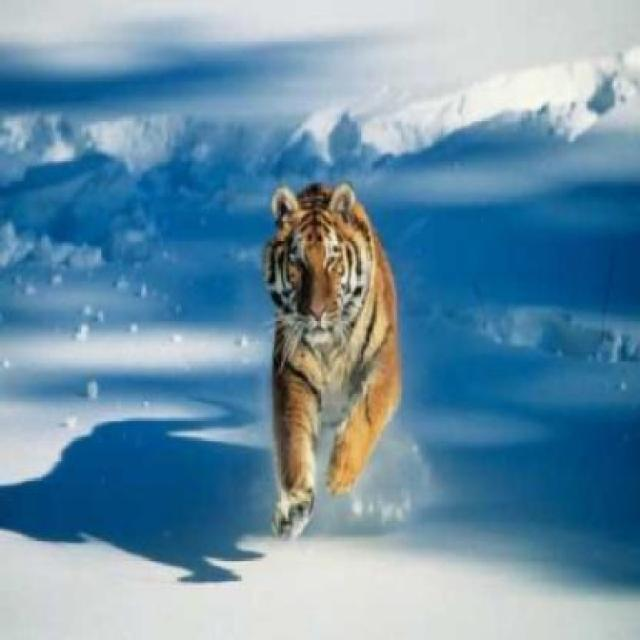tiger: (260, 180, 402, 540)
